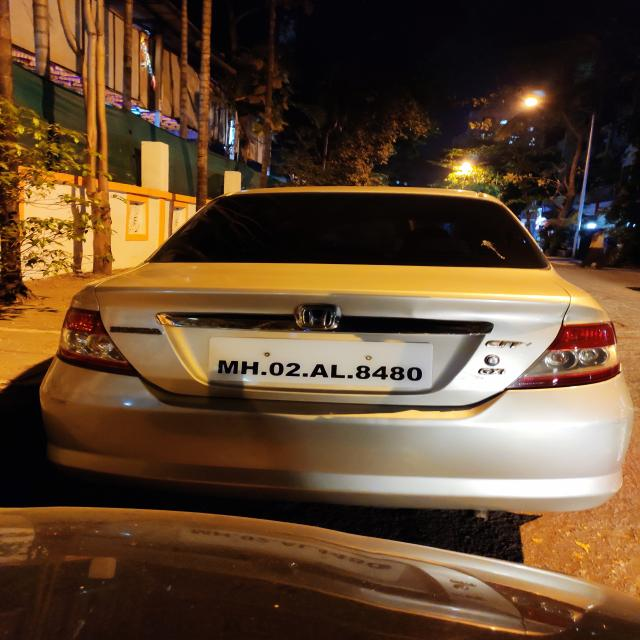Number-Plate: (212, 341, 432, 389)
